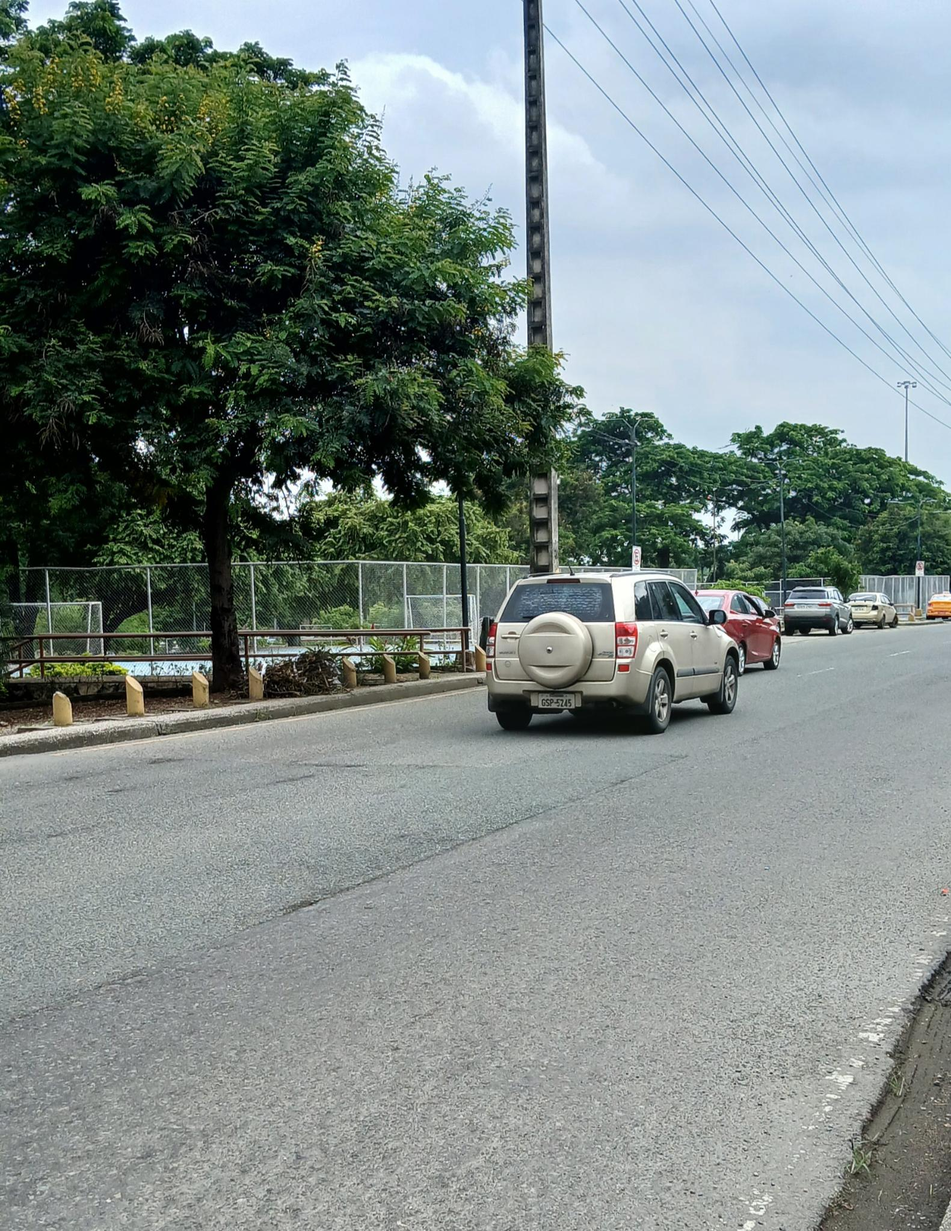license_plate: (532, 691, 581, 709), (793, 604, 815, 610)
